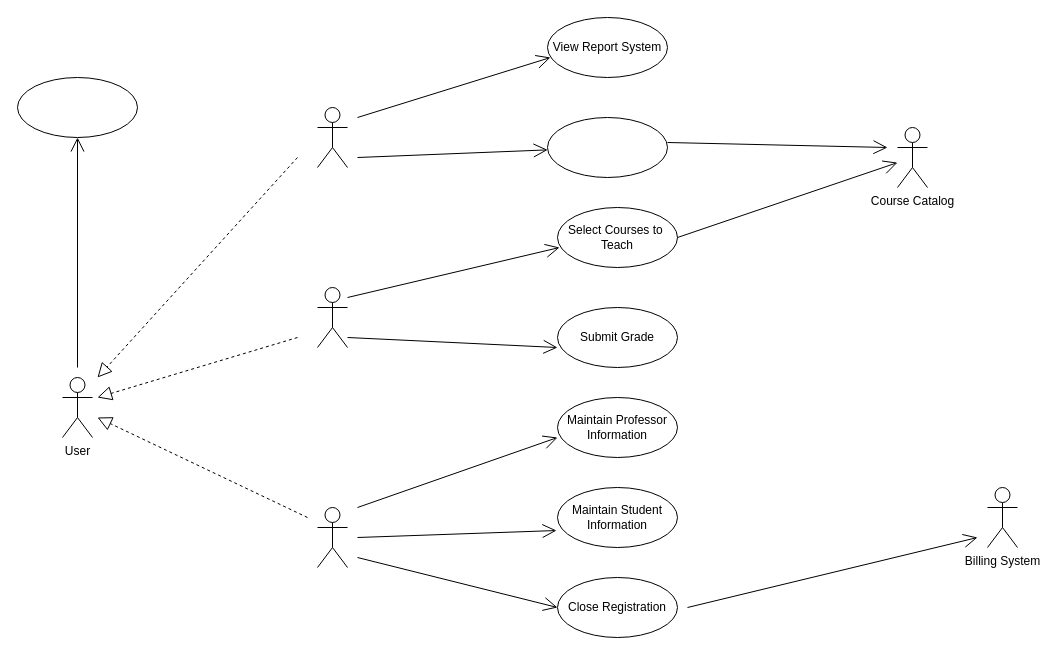
Image size: 1057x655. Some labels were removed from this diagram. The centre of each missing label's shape, as x and y in pixels:
"Login" goes at (x=77, y=107).
"Professor" goes at (x=332, y=317).
"Register for Courses" goes at (x=607, y=147).
"Registrar" goes at (x=332, y=537).
"Student" goes at (x=332, y=137).
